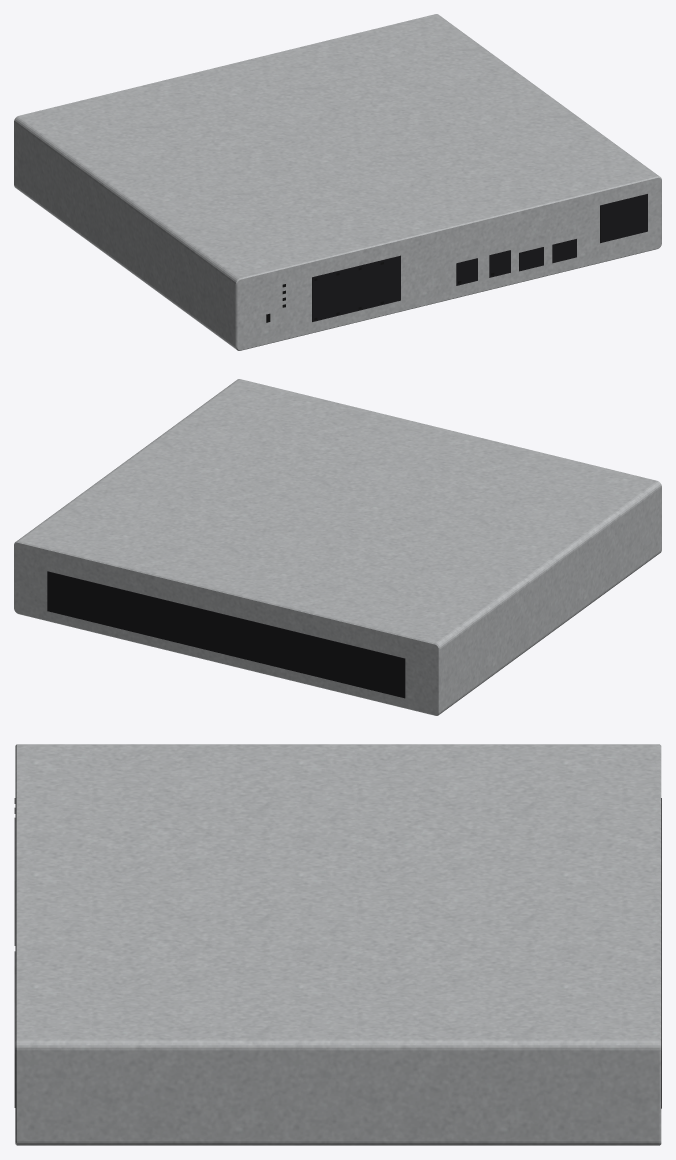
The model's file is C9200CX-8P-2X2G.far.glb.
3 renders of one model, top to bottom at view 1: azimuth 30°, elevation 25°; view 2: azimuth 150°, elevation 25°; view 3: azimuth 270°, elevation 25°, orthographic. The views are drawn at different scales.
Parts seen in each view (by area): view 1: Shell_far; view 2: Shell_far; view 3: Shell_far.
Part boxes in pixels (bbox=[...]): Shell_far: bbox=[14, 14, 661, 350]; Shell_far: bbox=[14, 379, 661, 715]; Shell_far: bbox=[14, 744, 661, 1145].
Bounding box in the file's own units: 0.2692 × 0.0439 × 0.2446.
Materials: 3 (2 with a texture image).
